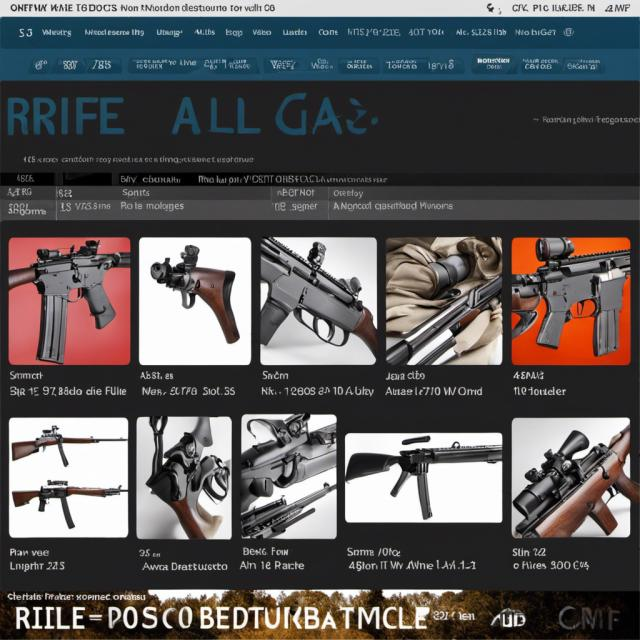gun: (251, 234, 380, 364), (506, 232, 640, 355), (6, 240, 137, 365), (514, 422, 640, 541), (385, 254, 505, 371), (342, 441, 506, 521), (146, 240, 240, 352), (5, 421, 128, 470), (10, 478, 126, 528)
